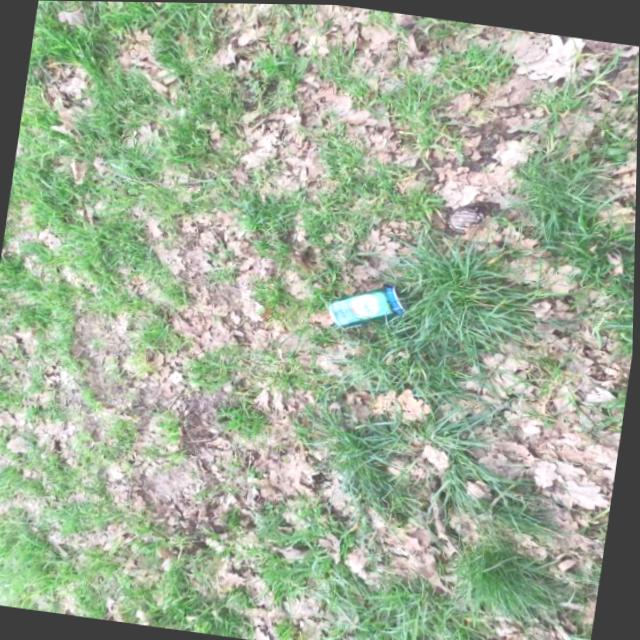Can-Metal: (323, 275, 412, 338)
